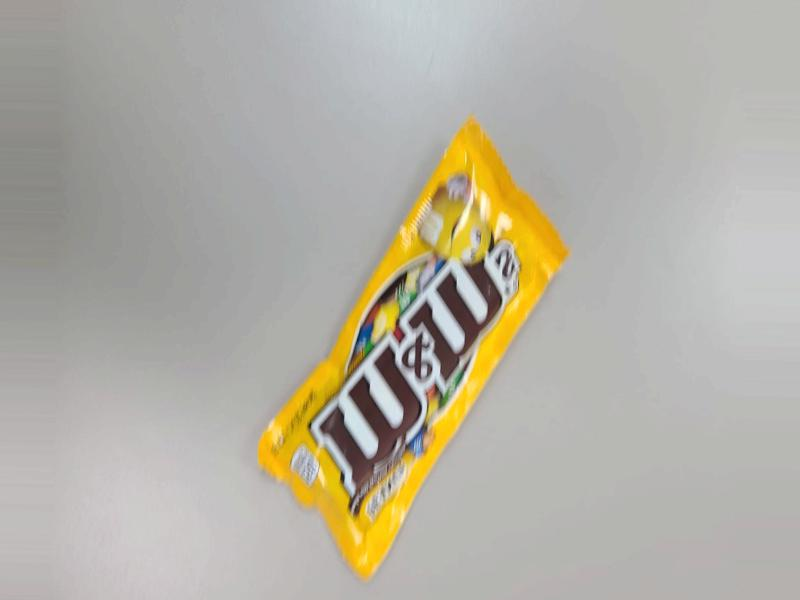m&m: (264, 114, 578, 592)
